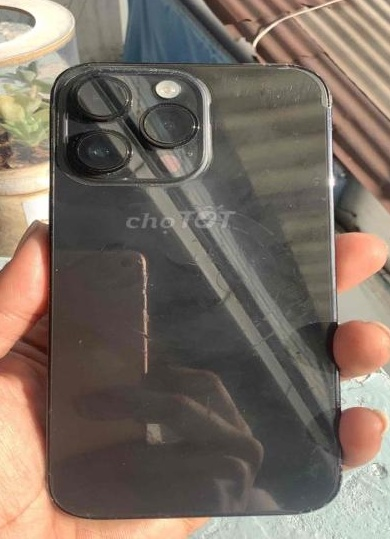scratch: (62, 128, 219, 197), (243, 57, 339, 151), (47, 56, 240, 89), (290, 168, 333, 230)
